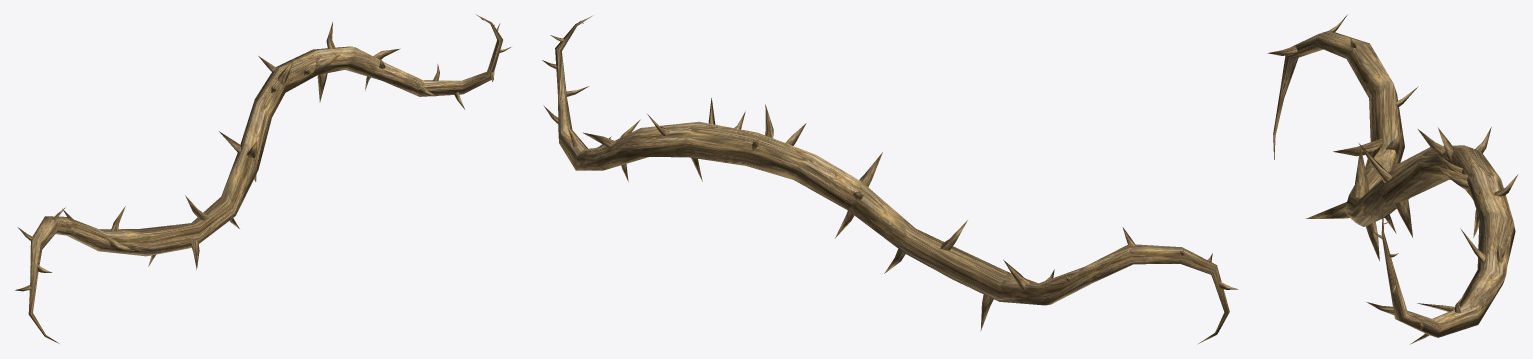
File: S_Tree_Yellow018.FBX
The picture shows the model from 3 angles, left to right: view 1: azimuth 30°, elevation 25°; view 2: azimuth 150°, elevation 25°; view 3: azimuth 270°, elevation 25°; orthographic projection. The views are drawn at different scales.
Visible parts, largest first — view 1: S_Tree_Yellow018; view 2: S_Tree_Yellow018; view 3: S_Tree_Yellow018.
Boxes of the visible parts, box(x1,y1,x2,y2) form: S_Tree_Yellow018: box(15, 14, 510, 343); S_Tree_Yellow018: box(542, 15, 1238, 344); S_Tree_Yellow018: box(1267, 14, 1518, 344).
Bounding box in the file's own units: 2778 × 837 × 945.
